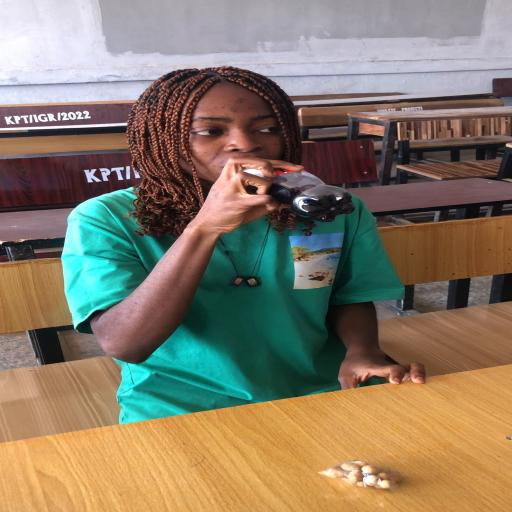Eating: (58, 67, 428, 425)
